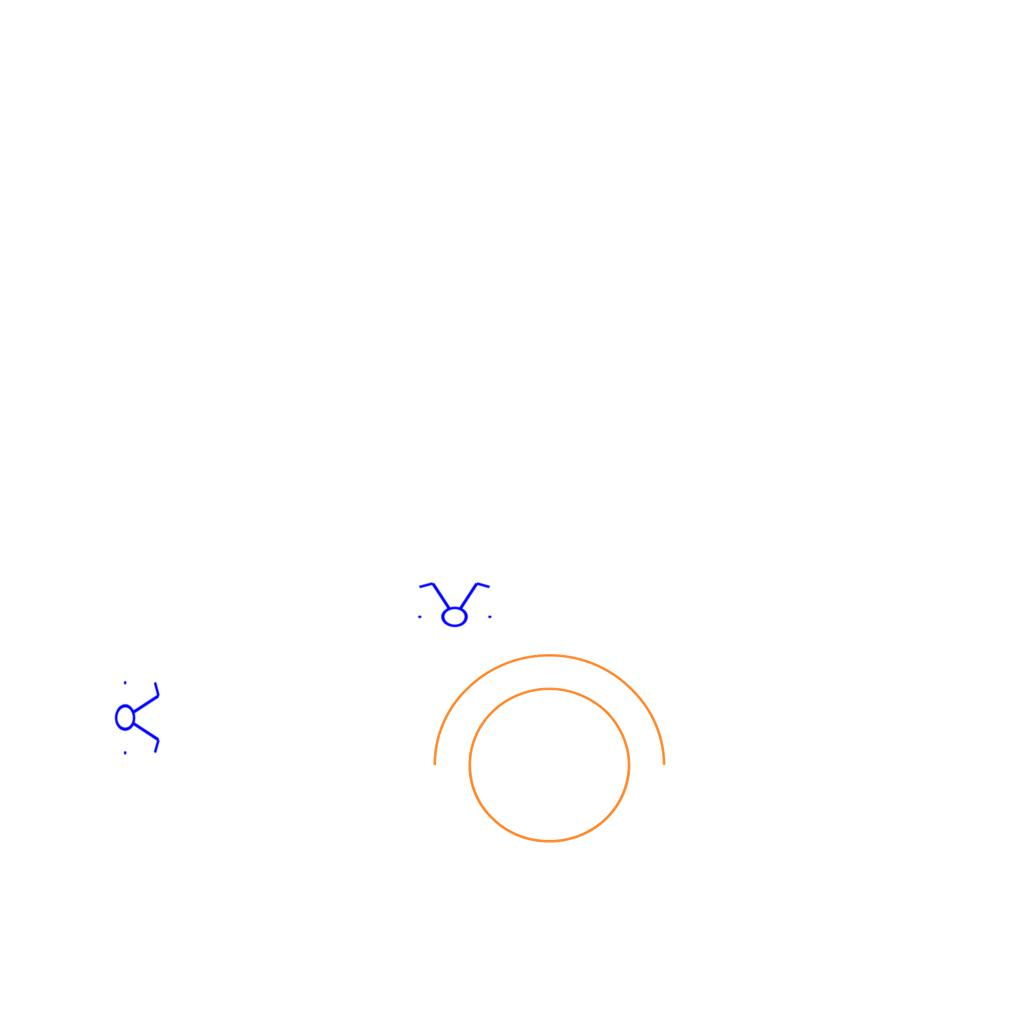Scheinwerfer_fuer_Alarmbeleuchtung: (411, 643, 675, 868)
Serienschalter: (114, 675, 162, 759), (412, 580, 496, 628)
